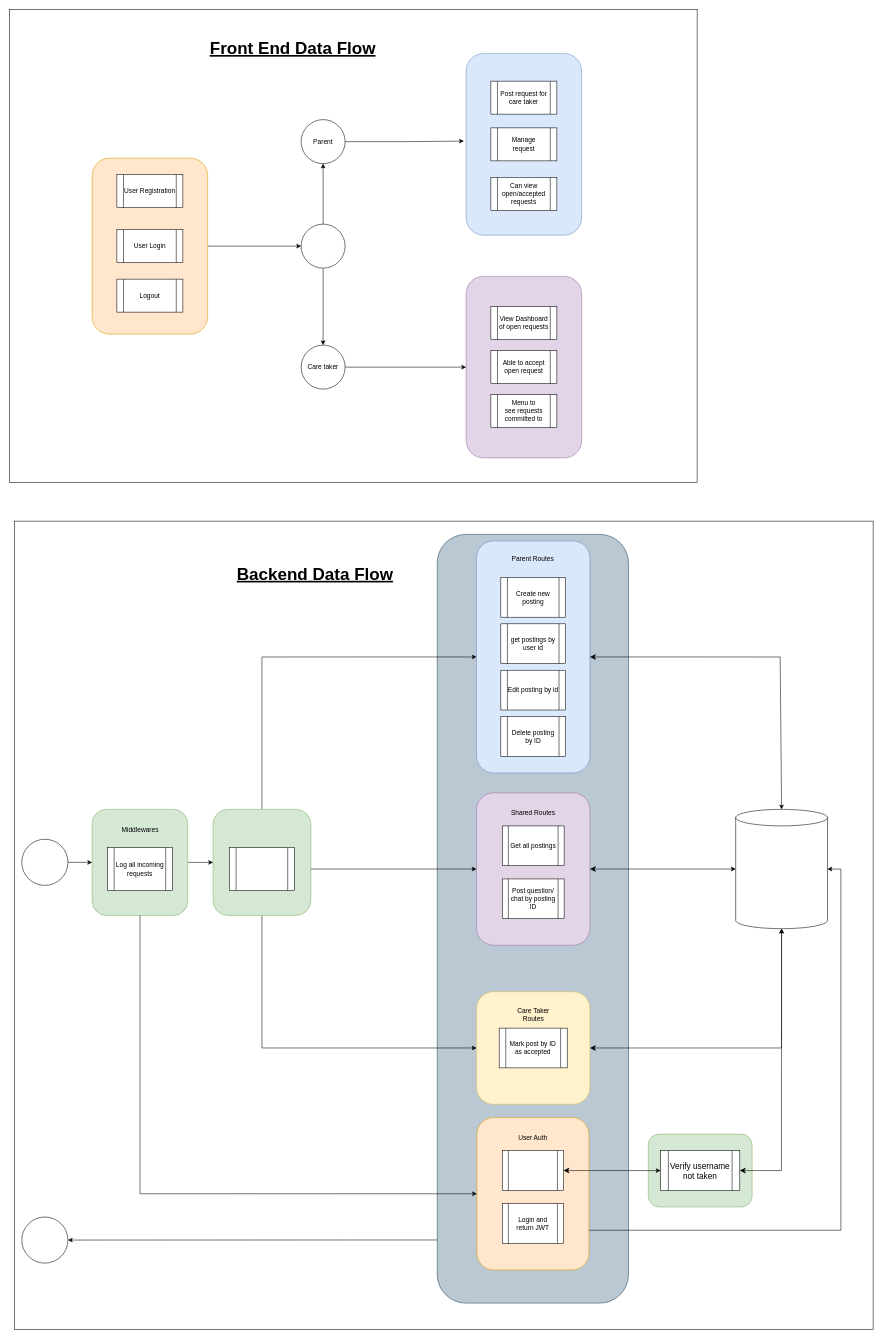
This 883x1339 diagram has some shape labels left out. The shapes that lost their labels are listed below. From the top down, each one's centre as x and y in pixels, then its label:
At point 323,246: "Logged in".
At point 44,862: "Incoming Request".
At point 261,869: "Verify JWT of User".
At point 781,869: "Database".
At point 532,1170: "Sign up".
At point 44,1239: "Outgoing Response".
